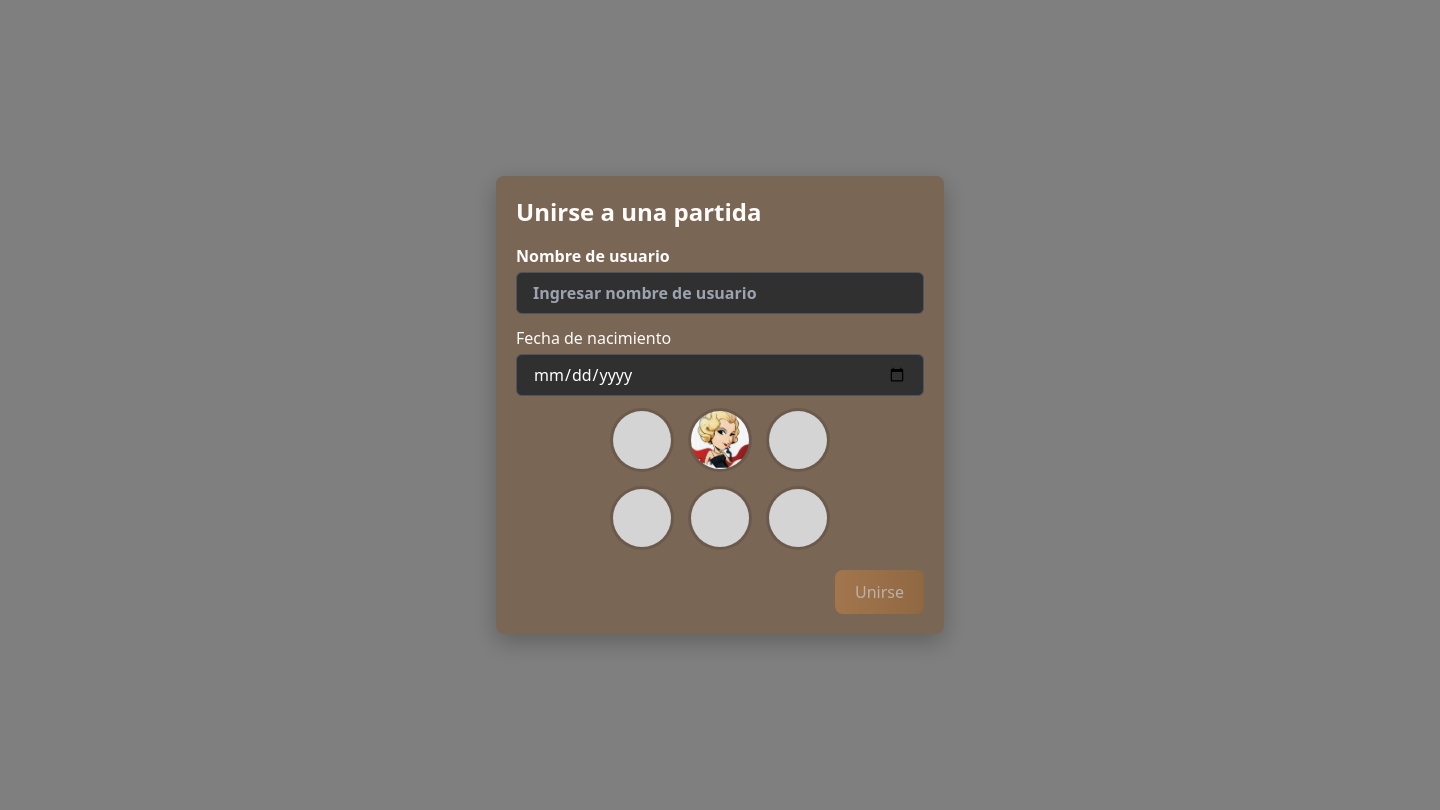
Test: no permite escribir más de 35 caracteres en el Nombre de Usuario
The width and height of the screenshot is (1440, 810).
Type "ABCDEFGHIJKLMNOPQRSTUVWXYZABCDEFGHIJKLMNOPQRSTUVWXYZ" into the field with test id "input-username".
click(720, 293); type("ABCDEFGHIJKLMNOPQRSTUVWXYZABCDEFGHIJKLMNOPQRSTUVWXYZ")  # box [516,272,924,314]
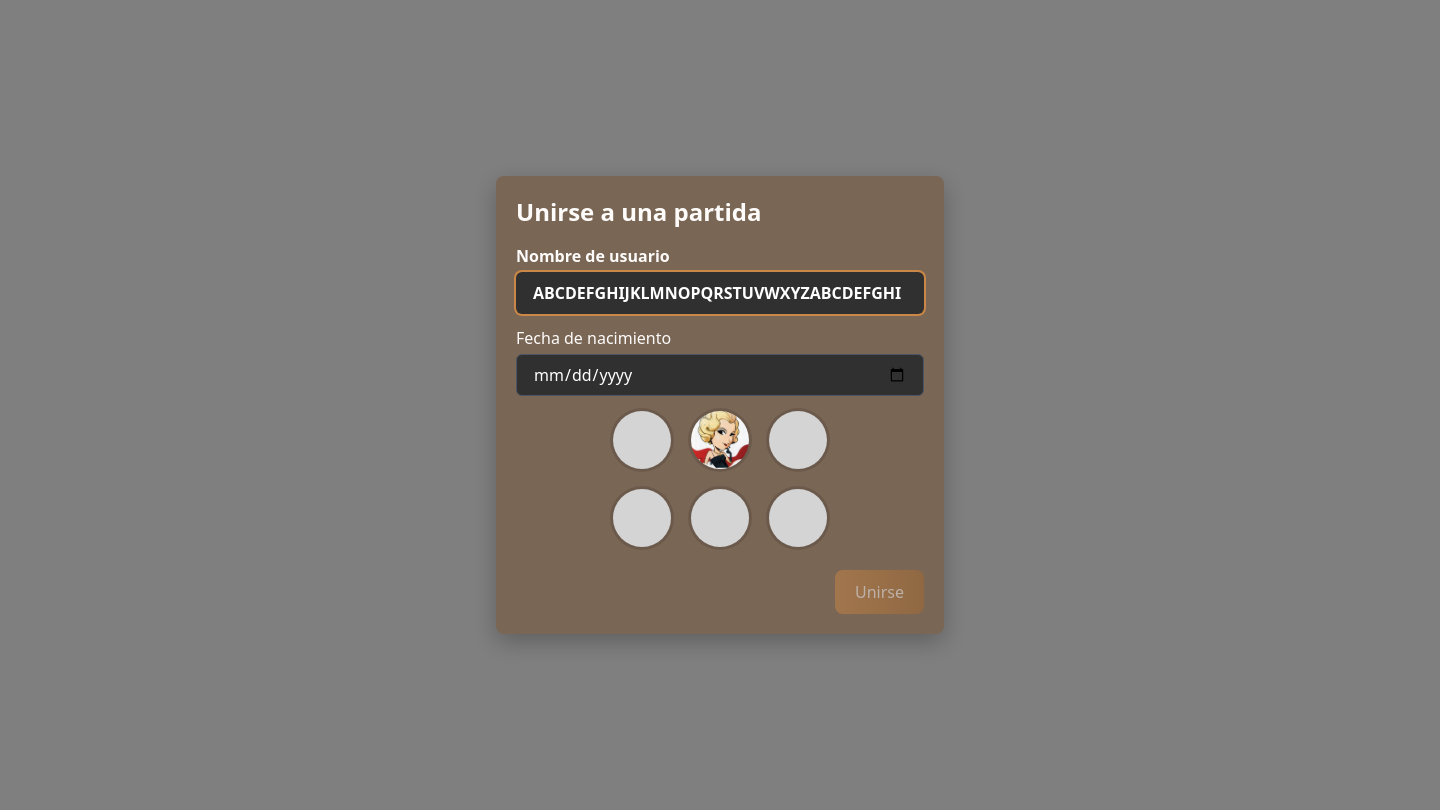
Expected: the field with test id "input-username" holds "ABCDEFGHIJKLMNOPQRSTUVWXYZABCDEFGHI", [516,272,924,314]
